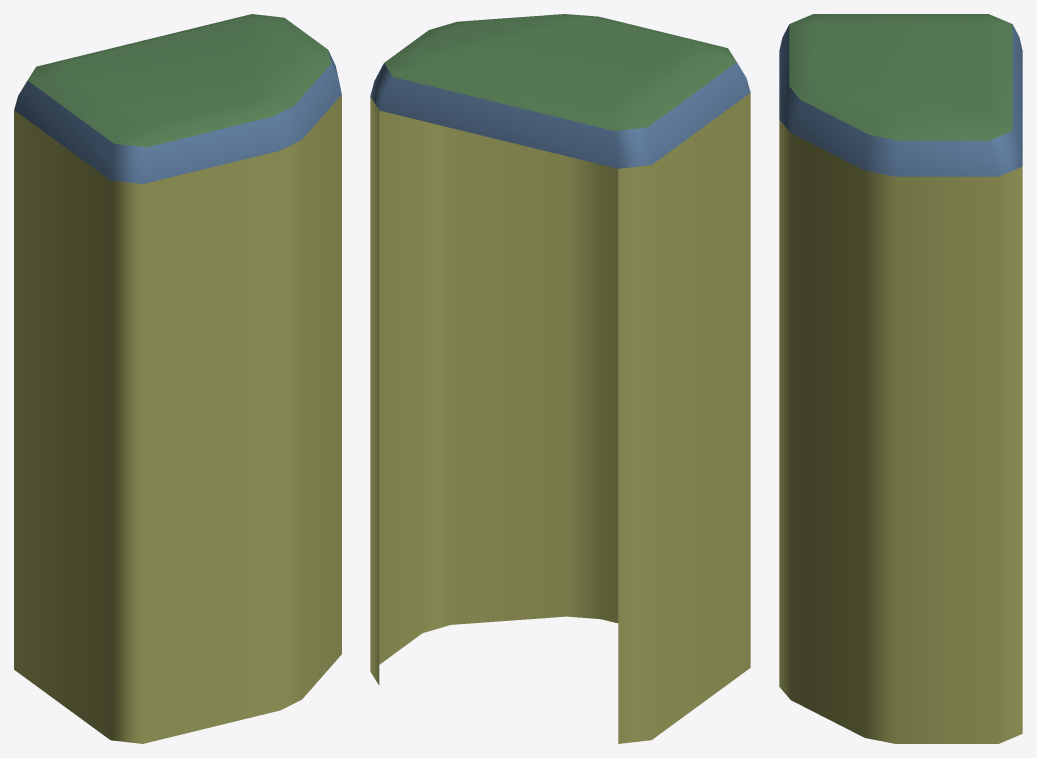
Rendered from Octava_plat.fbx.
3 renders of one model, left to right at view 1: azimuth 30°, elevation 25°; view 2: azimuth 150°, elevation 25°; view 3: azimuth 270°, elevation 25°, orthographic. The views are drawn at different scales.
Parts seen in each view (by area): view 1: Octava_plat, Ground6, Wall6; view 2: Octava_plat, Ground6, Wall6; view 3: Octava_plat, Ground6, Wall6.
Boxes of the visible parts, bbox=[...] form: Octava_plat: bbox=[14, 95, 341, 743]; Ground6: bbox=[27, 14, 330, 147]; Wall6: bbox=[14, 50, 341, 183]; Octava_plat: bbox=[370, 93, 750, 743]; Ground6: bbox=[384, 14, 736, 130]; Wall6: bbox=[370, 62, 750, 168]; Octava_plat: bbox=[779, 120, 1022, 743]; Ground6: bbox=[789, 14, 1012, 140]; Wall6: bbox=[779, 24, 1022, 176].
Size of the model in its own units: 6737 by 14096 by 5117.
